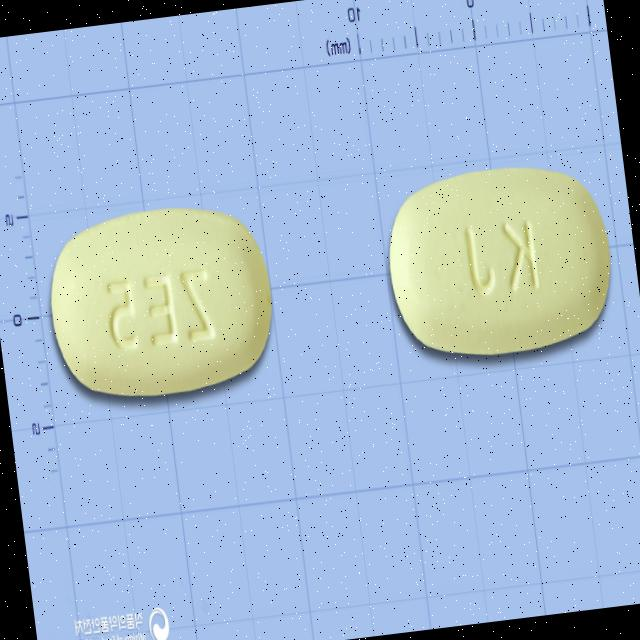Jecla: (378, 154, 620, 369), (38, 195, 282, 408)
